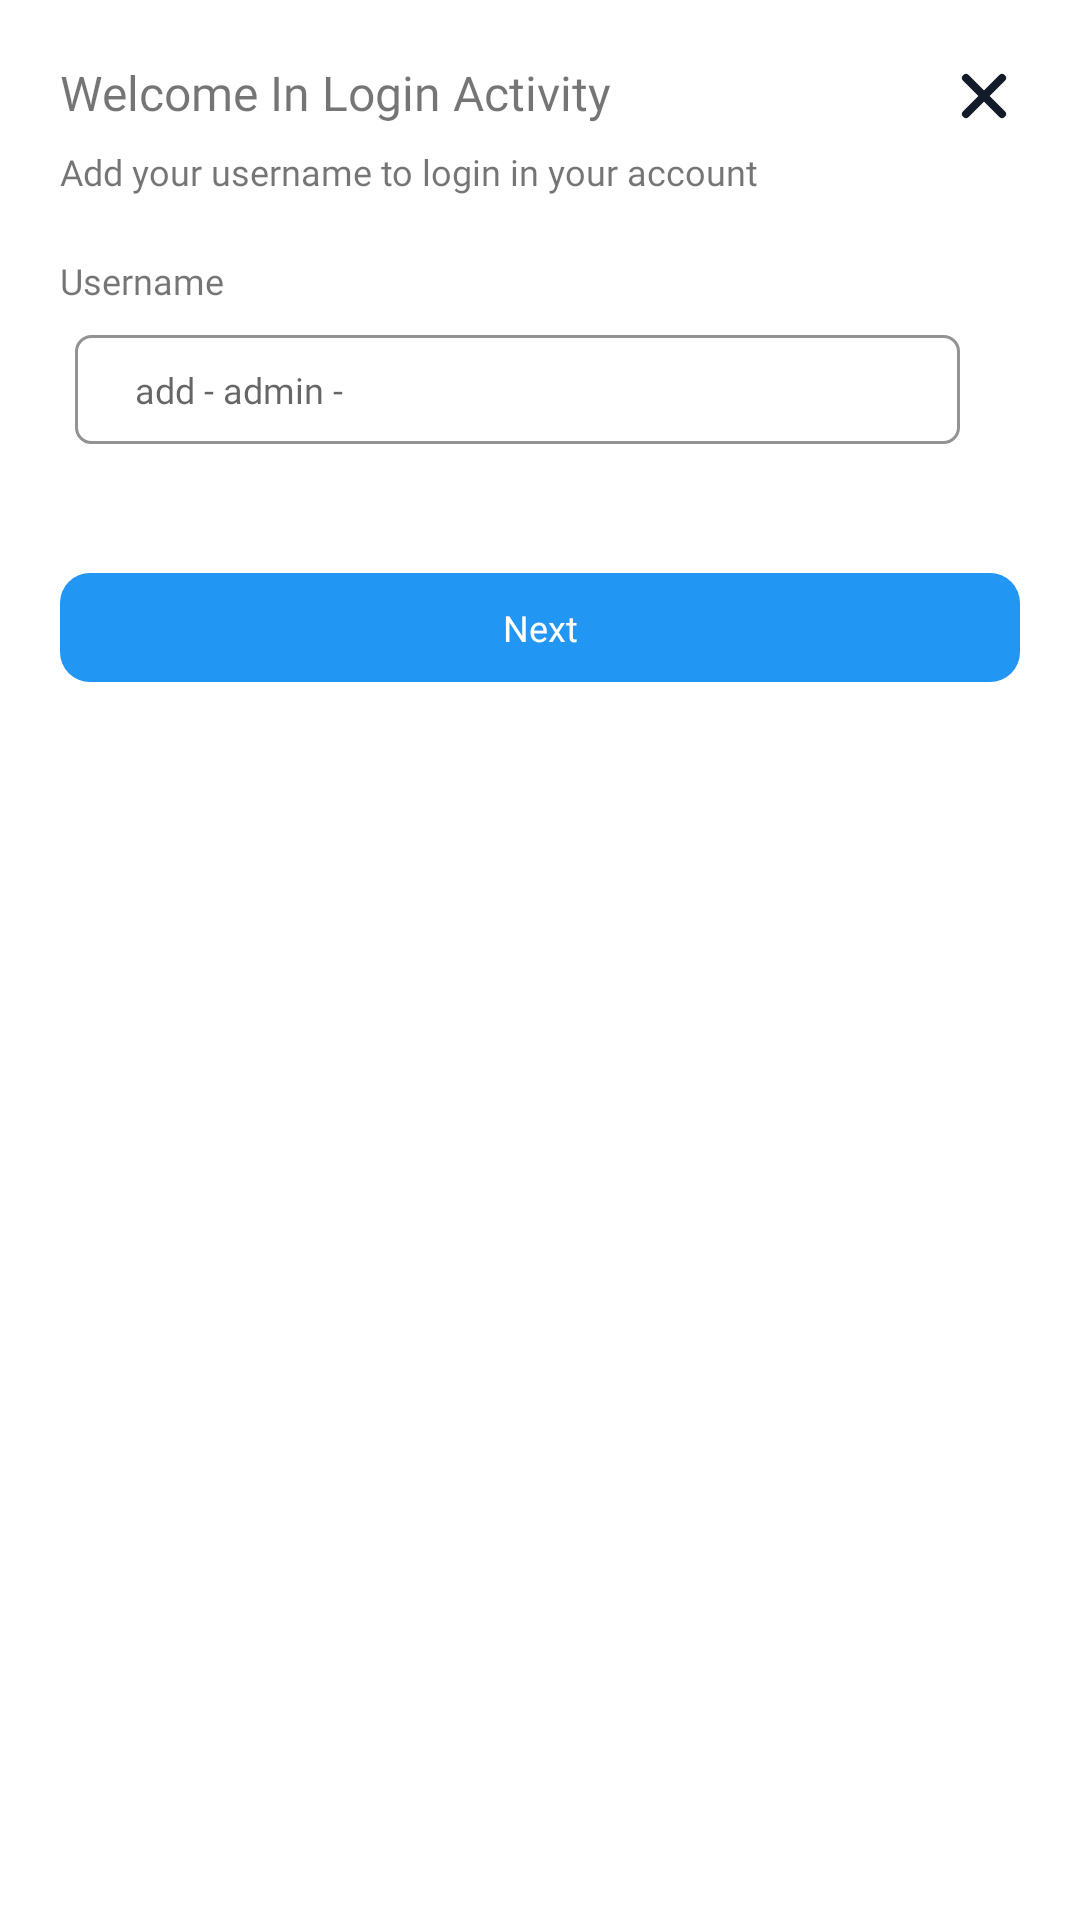

Point at icon controls on the screen. Image size 1080x1920, points as [x,y].
xmark: [984,96]
